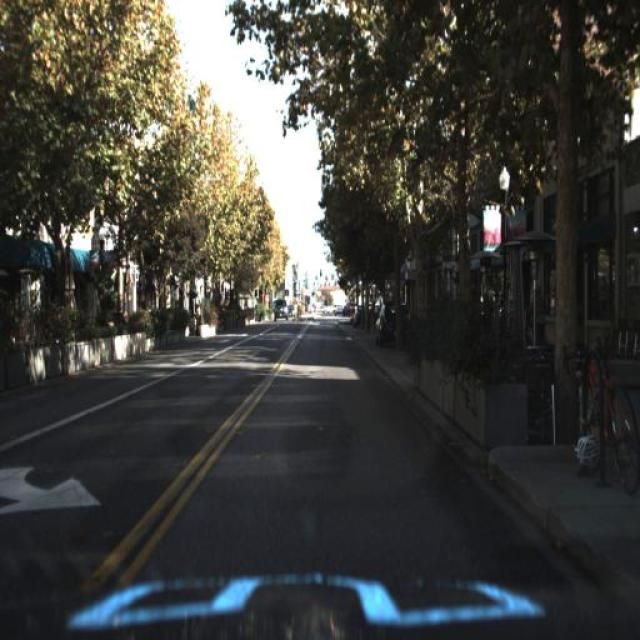car: (372, 298, 411, 347), (268, 290, 292, 325)
trafficLight: (520, 282, 549, 352)
